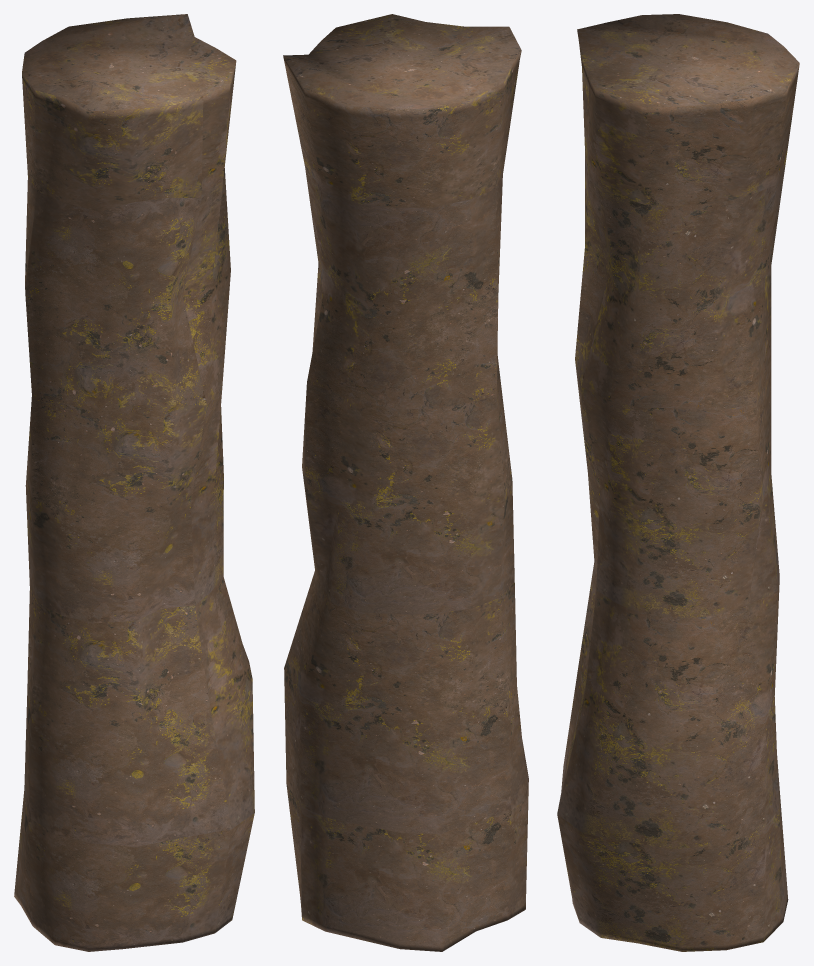
Rendered from Pillar1.obj.
3 renders of one model, left to right at view 1: azimuth 30°, elevation 25°; view 2: azimuth 150°, elevation 25°; view 3: azimuth 270°, elevation 25°, orthographic.
Visible parts, largest first — view 1: Circle; view 2: Circle; view 3: Circle.
Boxes of the visible parts, x1,y1,x2,y2 form: Circle: (14,14,254,951); Circle: (283,14,528,951); Circle: (557,14,799,951).
Size of the model in its own units: 2.75 by 10.4 by 2.67.
